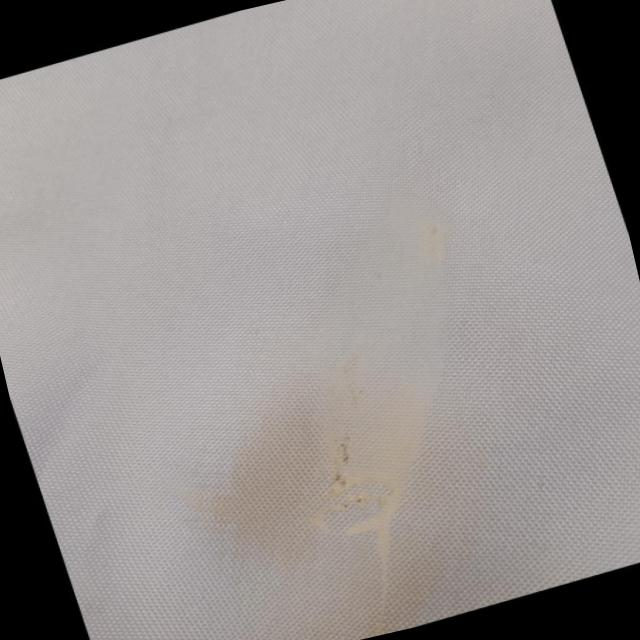stain: (204, 339, 494, 630)
